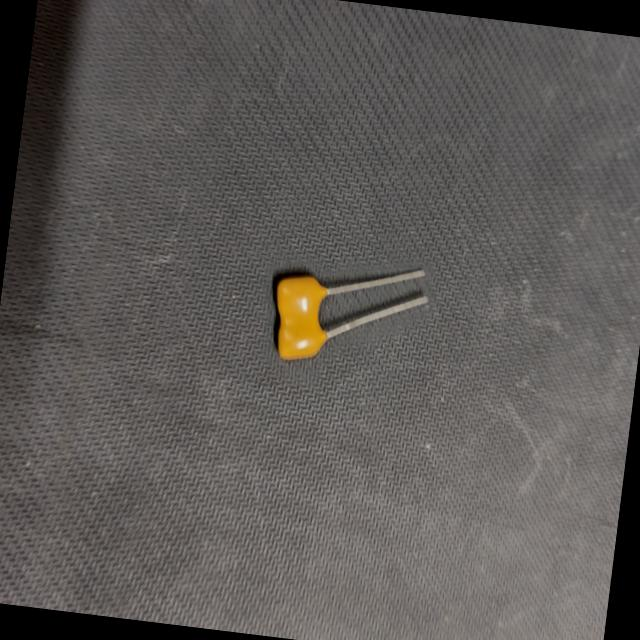resistor: (254, 239, 442, 388)
